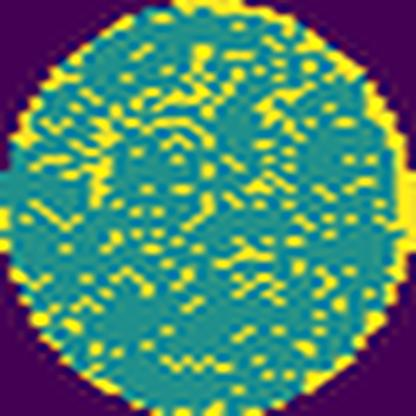Edge-Loc: (359, 78, 416, 308), (303, 304, 397, 395), (171, 0, 299, 41), (310, 25, 364, 82)
